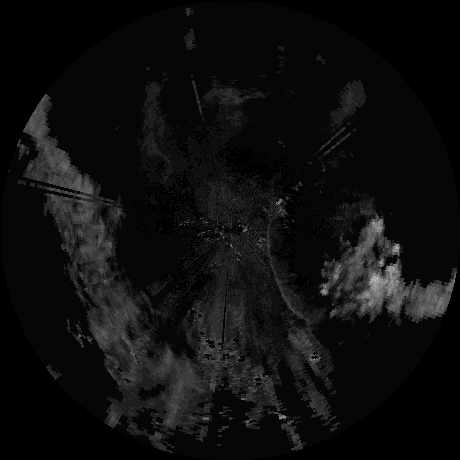frontgust: (265, 202, 310, 320)
